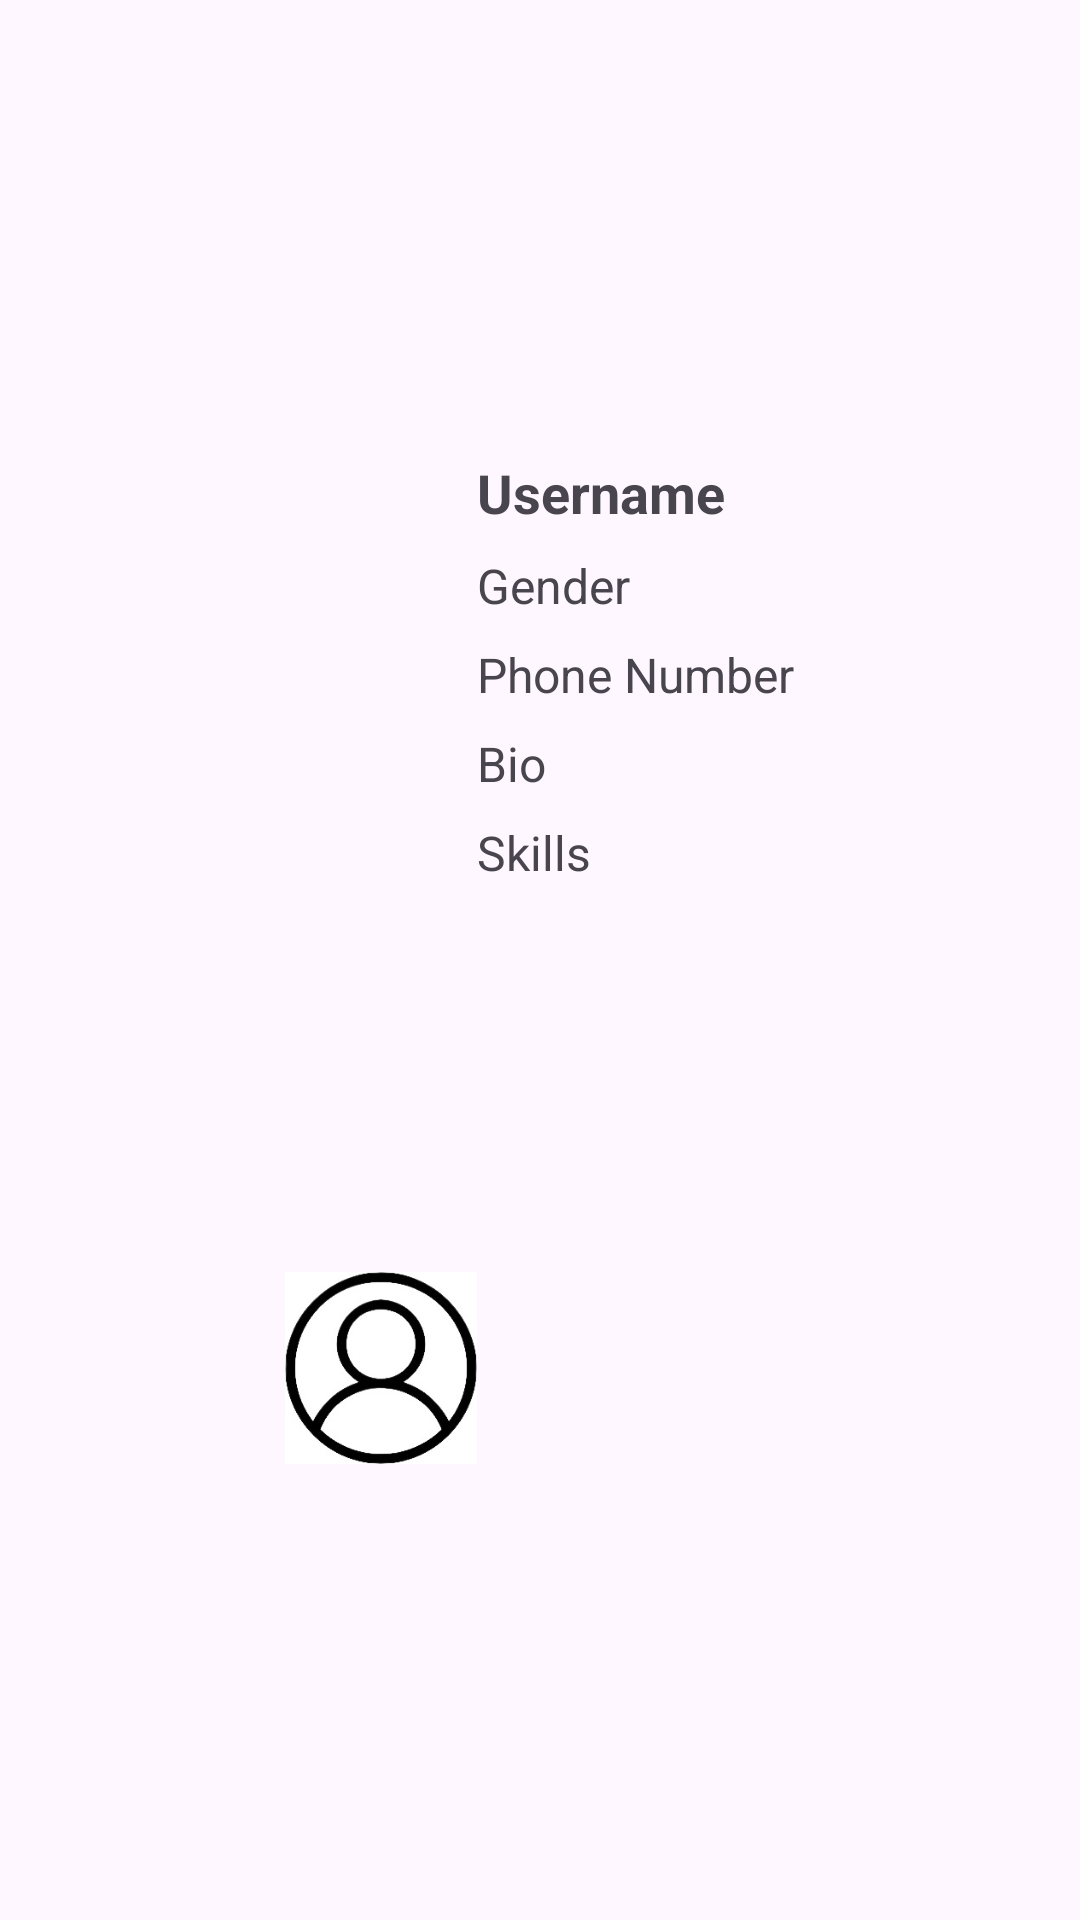

Icon bounding boxes for this 1080 x 1920 phone screenshot, format [x1=x1, y1=y1, x2=x2, y2=y2]:
profile: [x1=285, y1=1272, x2=477, y2=1464]
